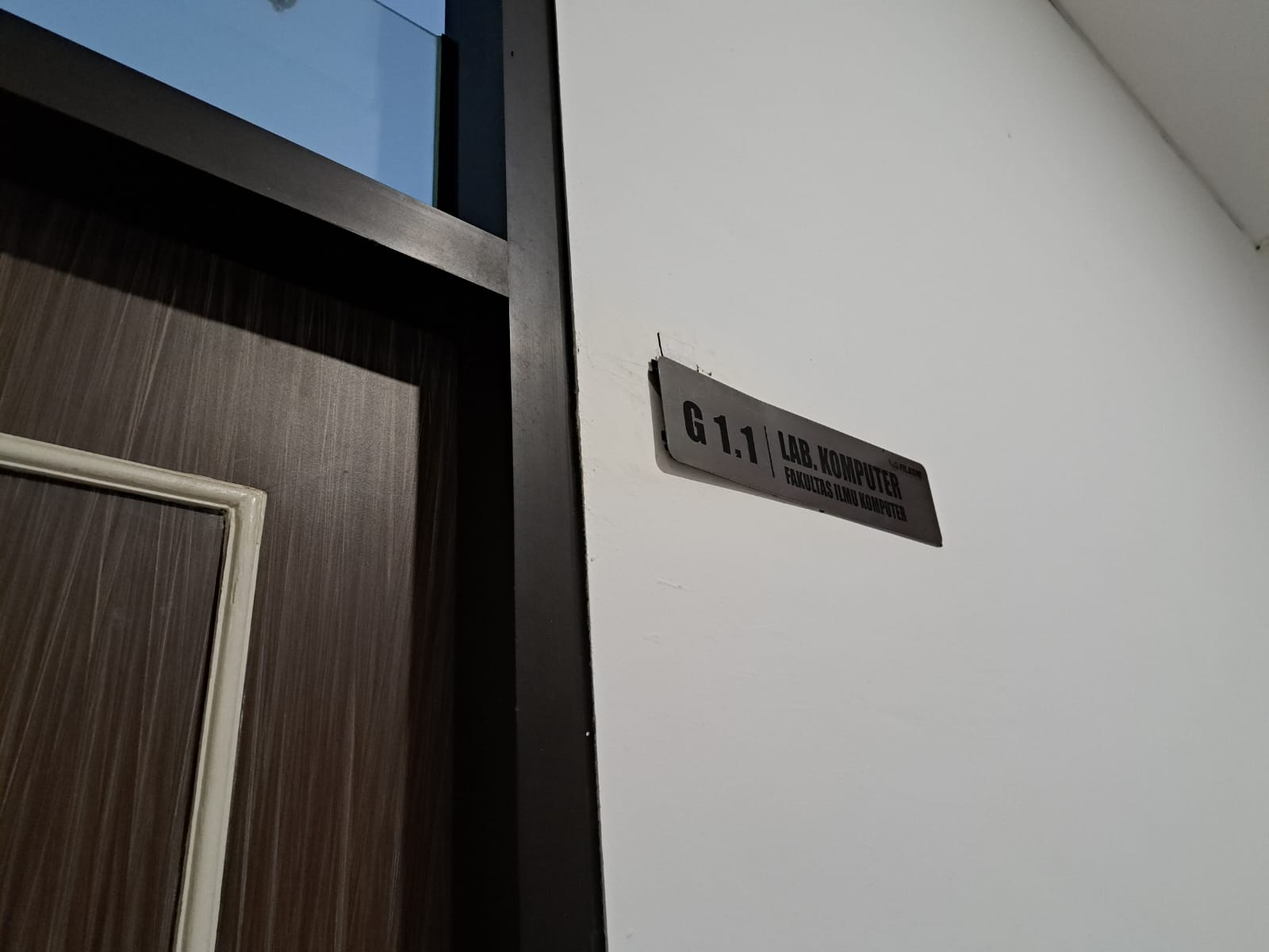ruangan: (641, 347, 948, 553)
